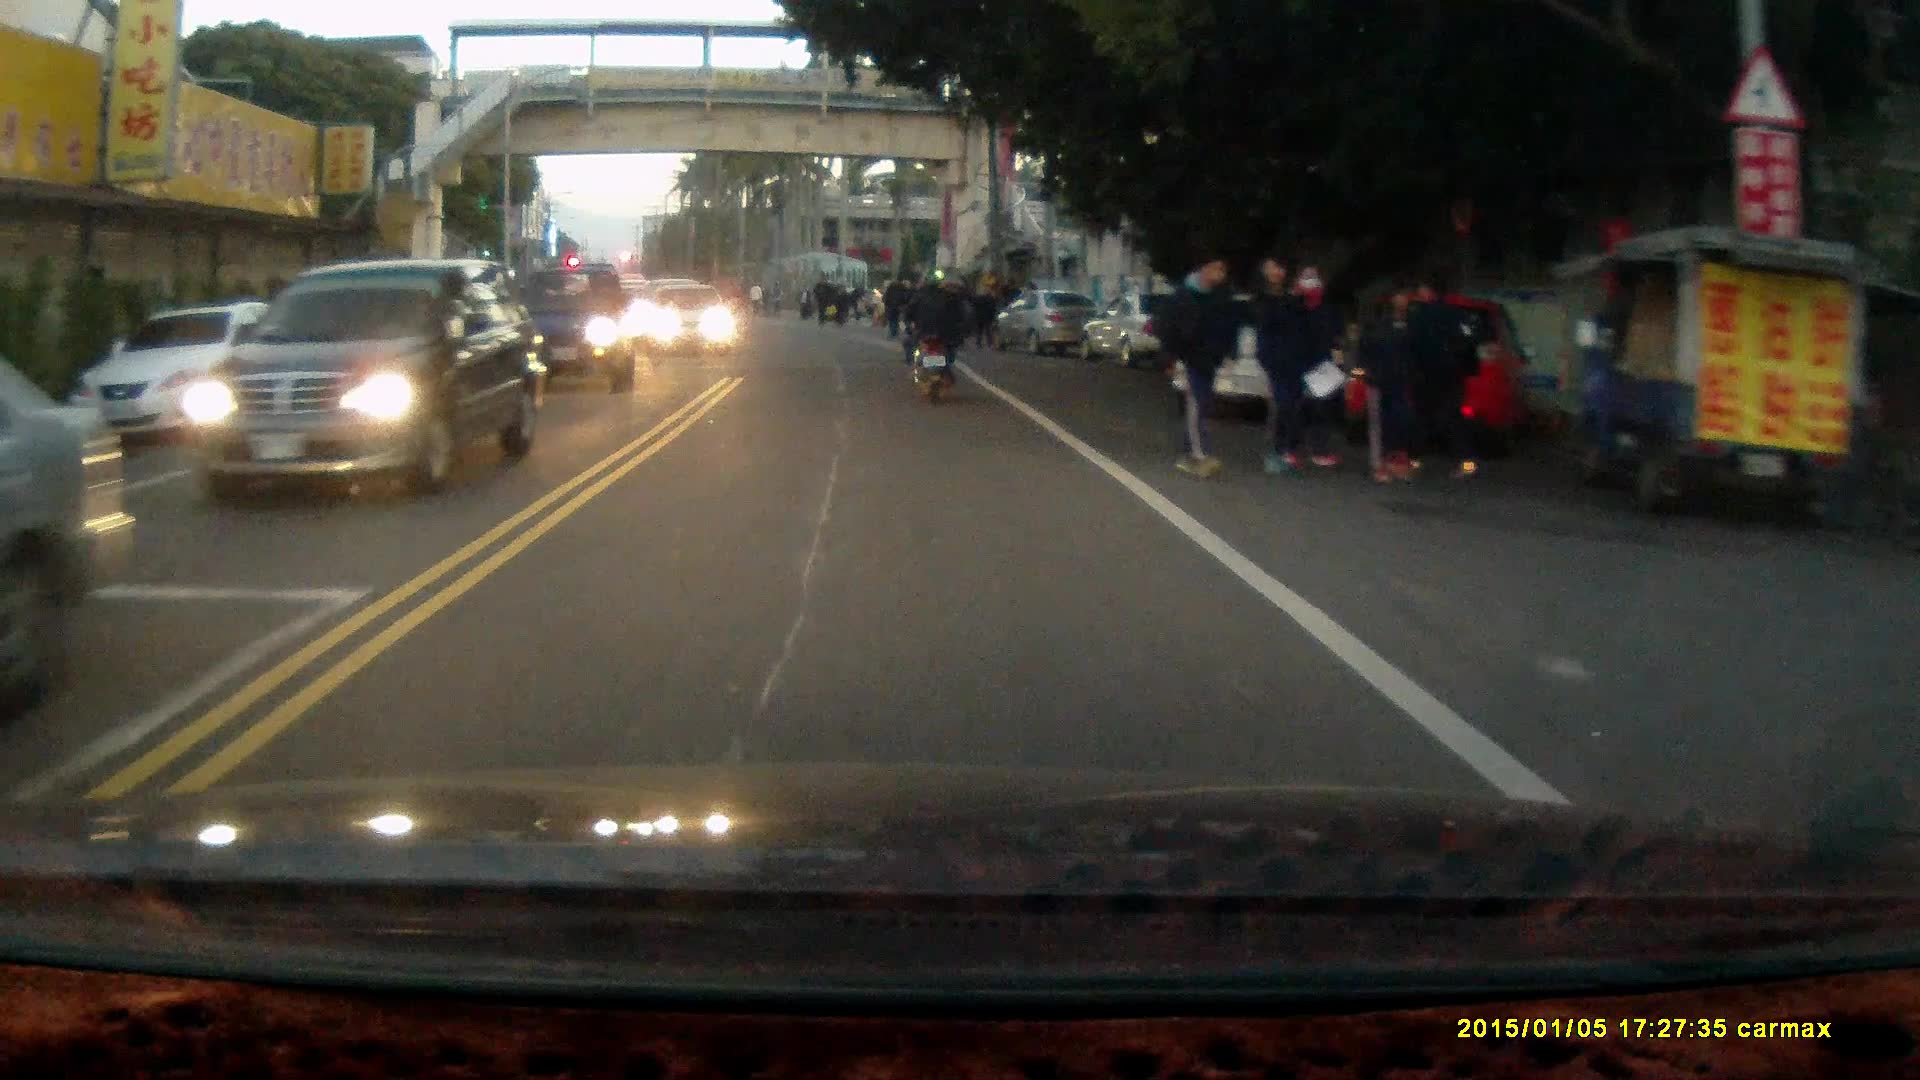pedestrian: (1157, 243, 1241, 482), (1406, 272, 1483, 489), (1356, 282, 1437, 487), (1248, 250, 1319, 481), (1272, 256, 1332, 464), (970, 281, 999, 348)
rider: (893, 269, 962, 404)
vehicle: (185, 256, 550, 507), (1313, 289, 1528, 458), (1, 390, 131, 650), (1167, 284, 1386, 426), (493, 268, 638, 396), (1081, 289, 1202, 368), (991, 292, 1106, 358), (649, 286, 742, 360)
